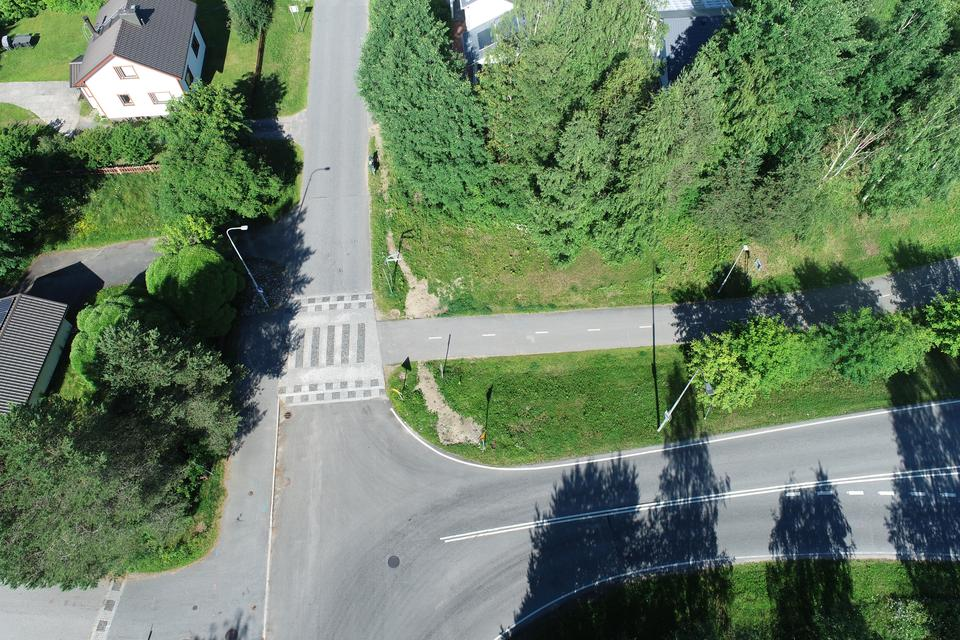intersection: (156, 438, 580, 640), (158, 262, 460, 416)
